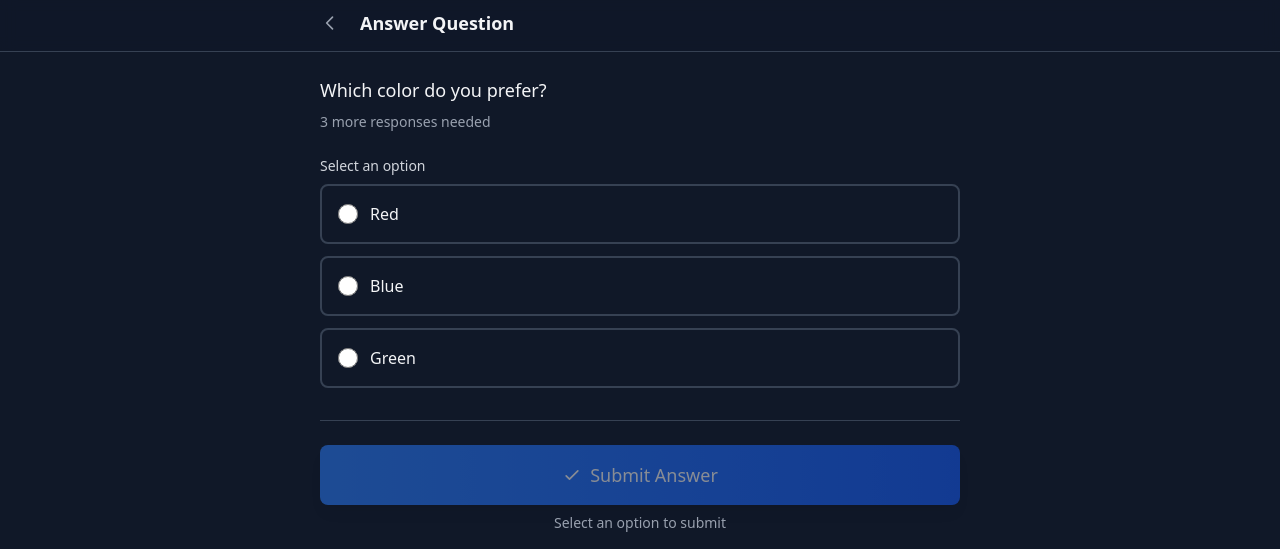
AnswerQuestion › enables submit when option is selected
Click the radio button labelled "Blue" at (348, 286), box [338,276,358,296]
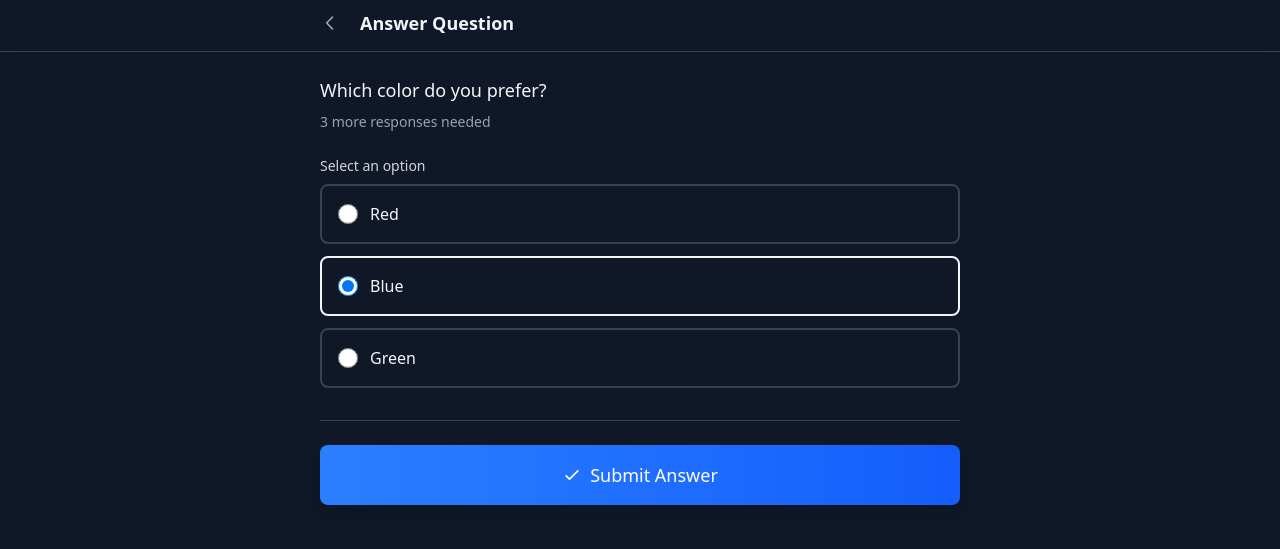
Expected: the button "Submit Answer" is enabled, [320,445,960,505]
